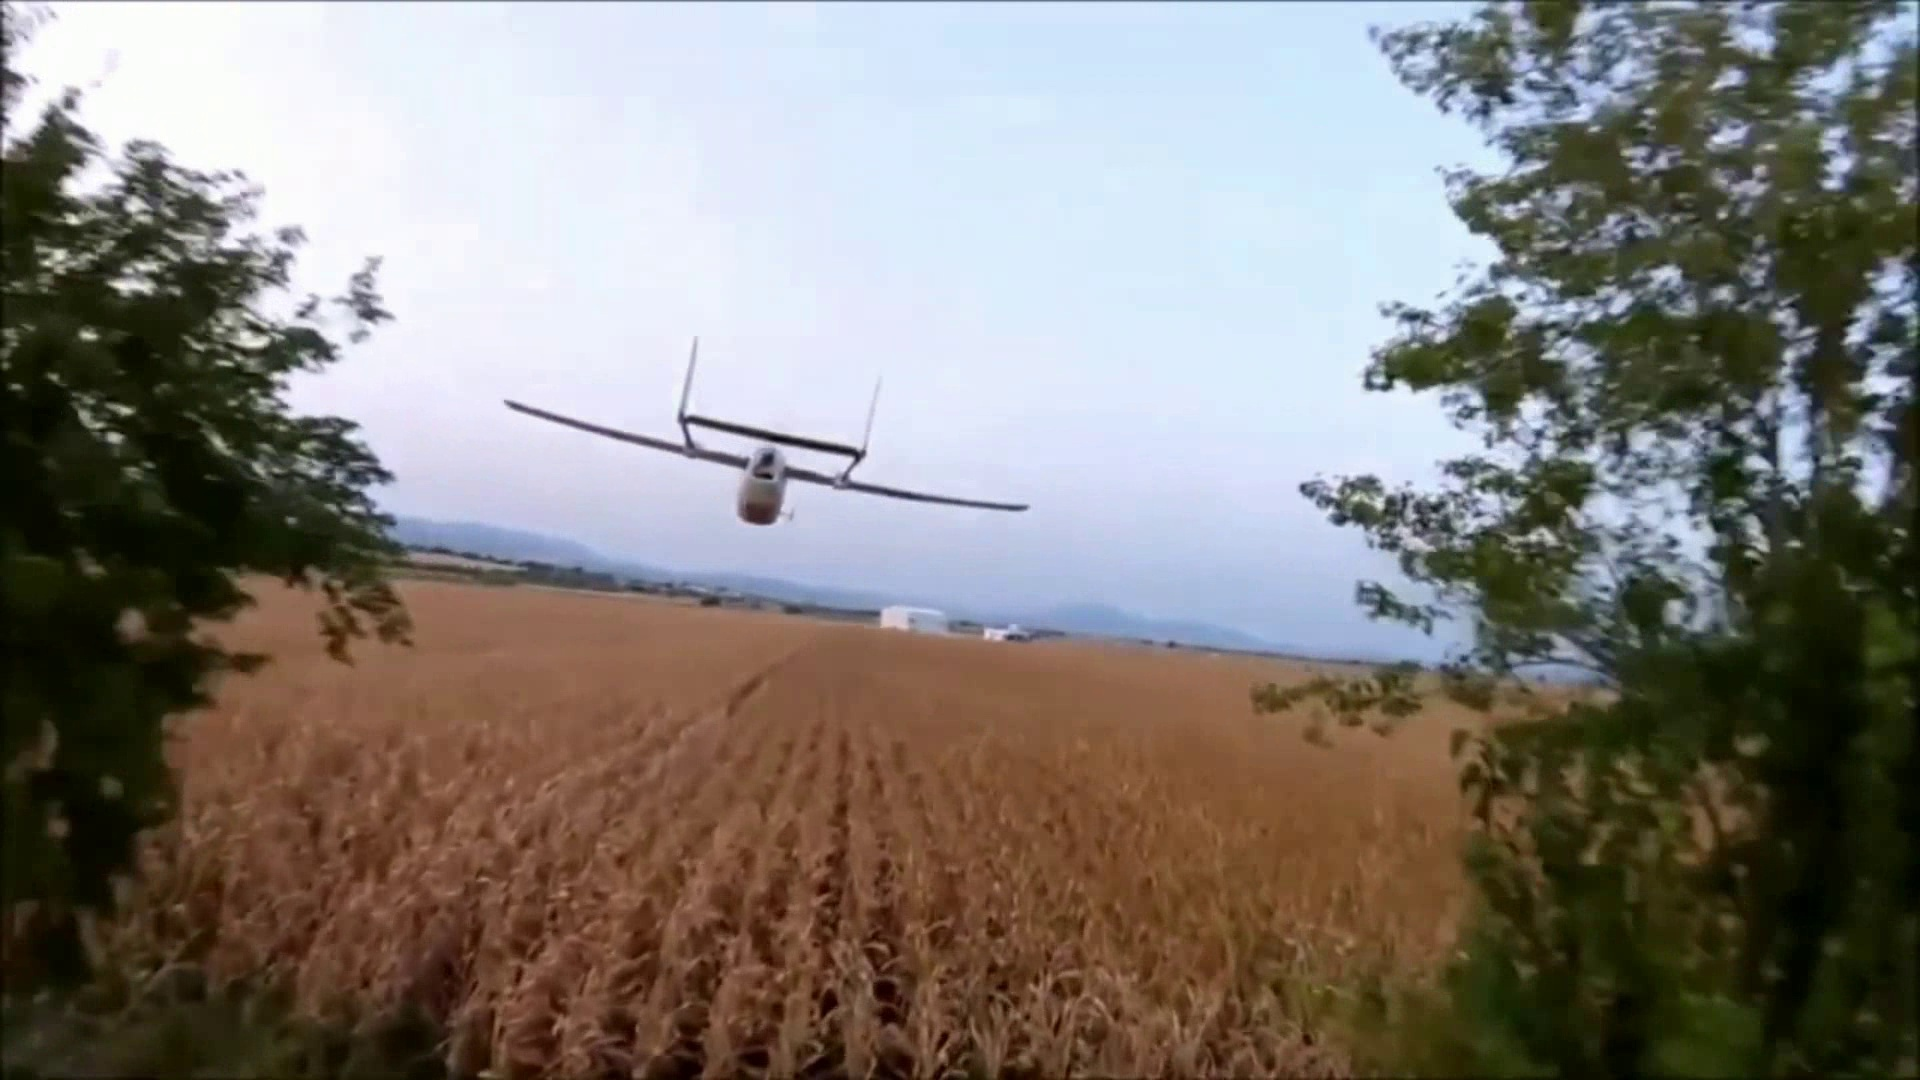airplane: (504, 334, 1030, 523)
